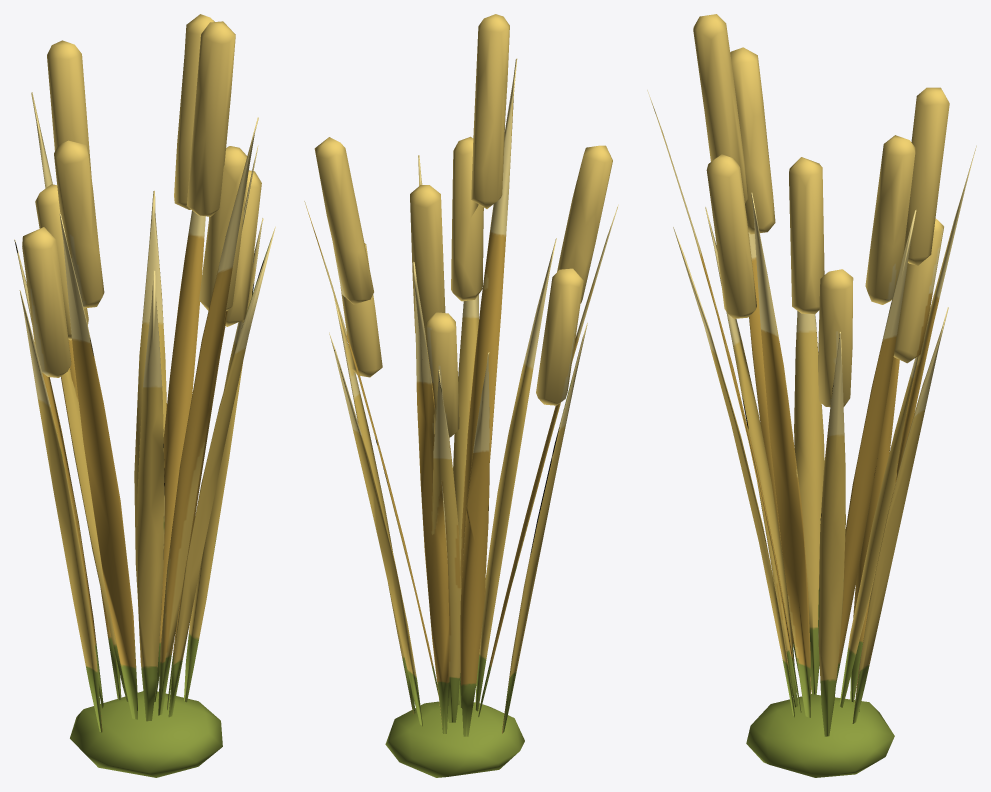
Rendered from TuftWheat.fbx.
3 views of the same model, side by side, from view 1: azimuth 30°, elevation 25°; view 2: azimuth 150°, elevation 25°; view 3: azimuth 270°, elevation 25° (orthographic). The views are drawn at different scales.
Parts seen in each view (by area): view 1: TuftWheat; view 2: TuftWheat; view 3: TuftWheat.
Part boxes in pixels (x1,y1,x2,y2): TuftWheat: (14,14,275,777); TuftWheat: (304,14,618,777); TuftWheat: (647,14,976,777).
Bounding box in the file's own units: 0.9628 × 2.73 × 1.08.
1 material, 1 textured.
